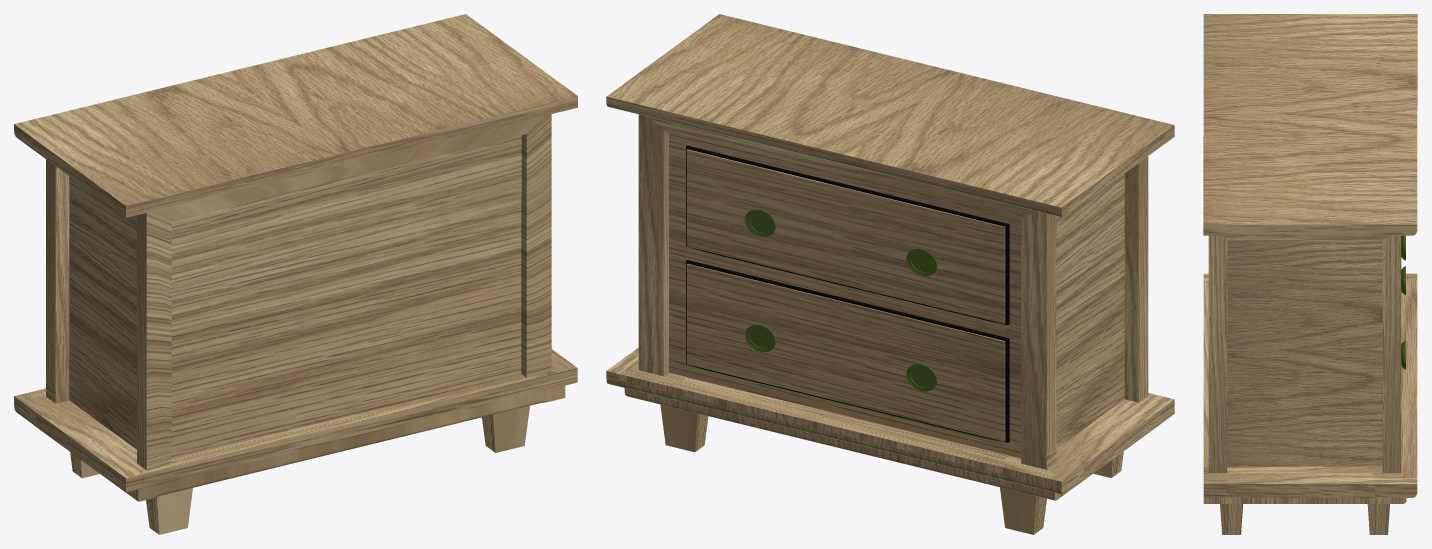
File: Dresser.fbx
3 views of the same model, side by side, from view 1: azimuth 30°, elevation 25°; view 2: azimuth 150°, elevation 25°; view 3: azimuth 270°, elevation 25° (orthographic). The views are drawn at different scales.
Parts seen in each view (by area): view 1: Dresser; view 2: Dresser; view 3: Dresser.
Part boxes in pixels (bbox=[...]): Dresser: bbox=[14, 14, 577, 534]; Dresser: bbox=[606, 14, 1174, 534]; Dresser: bbox=[1203, 14, 1417, 534].
Bounding box in the file's own units: 1005 × 737 × 432.
